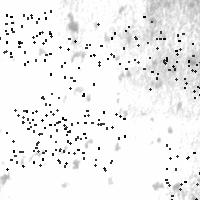pitted_surface: (5, 50, 156, 192), (93, 5, 194, 191), (6, 109, 66, 168), (27, 95, 87, 153), (65, 111, 124, 169), (42, 35, 100, 93), (147, 40, 199, 97), (97, 16, 151, 68), (0, 10, 50, 63), (156, 31, 200, 86), (165, 144, 200, 200)
